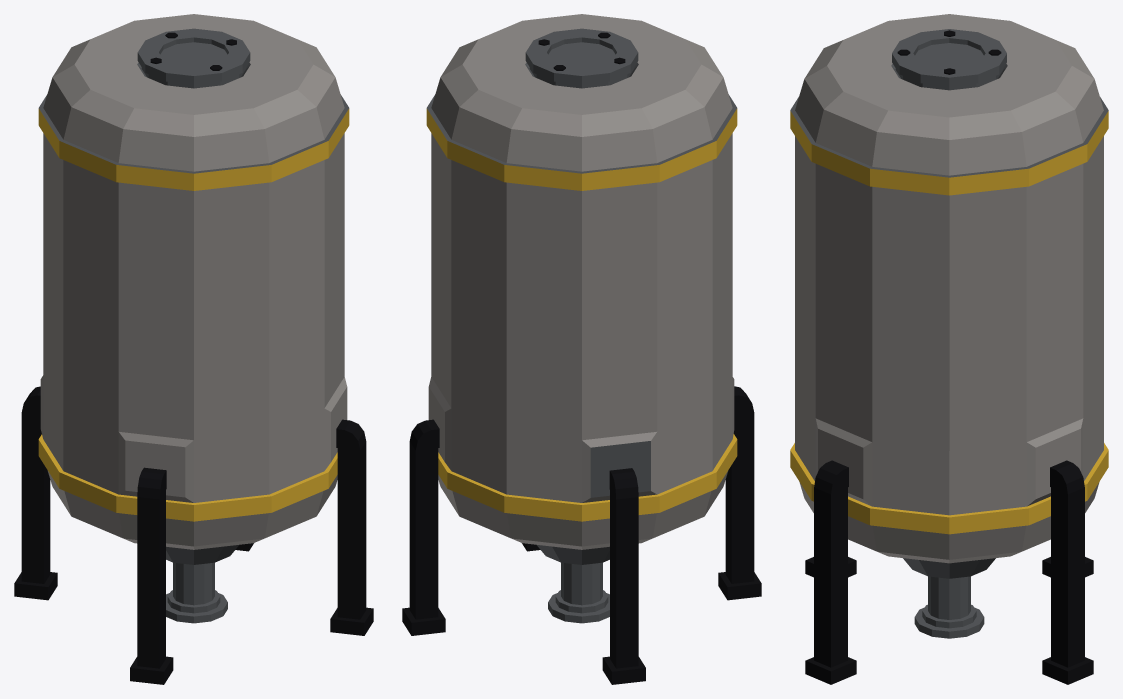
The model's file is IndustrialTankStand.fbx.
3 renders of one model, left to right at view 1: azimuth 30°, elevation 25°; view 2: azimuth 150°, elevation 25°; view 3: azimuth 270°, elevation 25°, orthographic. The views are drawn at different scales.
Parts seen in each view (by area): view 1: IndustrialTankStand; view 2: IndustrialTankStand; view 3: IndustrialTankStand.
Part boxes in pixels (box(x1,y1,x2,y2)): IndustrialTankStand: box(14, 14, 373, 684); IndustrialTankStand: box(402, 14, 761, 684); IndustrialTankStand: box(790, 14, 1108, 684).
Bounding box in the file's own units: 164 × 325 × 164.
